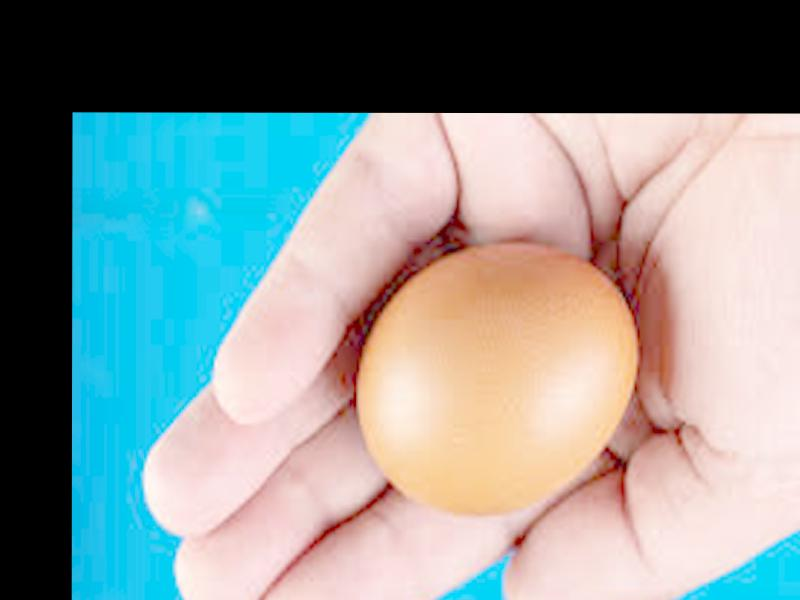Eggs: (353, 250, 636, 516)
